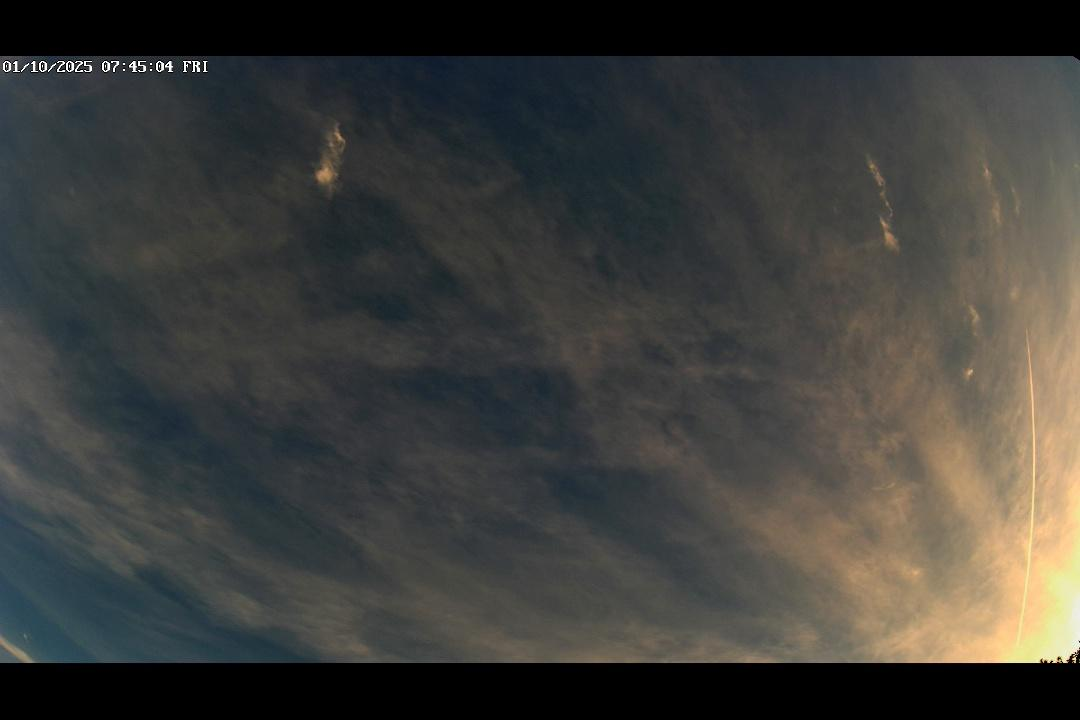Plane: (1021, 323, 1041, 418)
